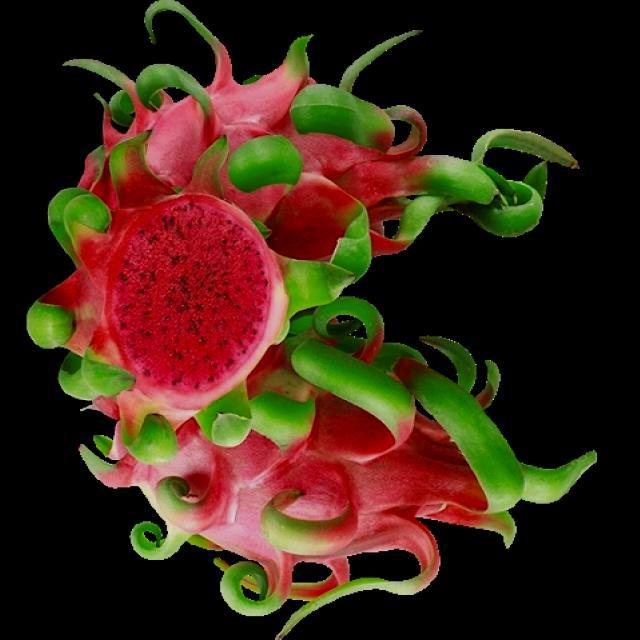do: (66, 338, 604, 638), (142, 6, 580, 240), (28, 175, 282, 452)
